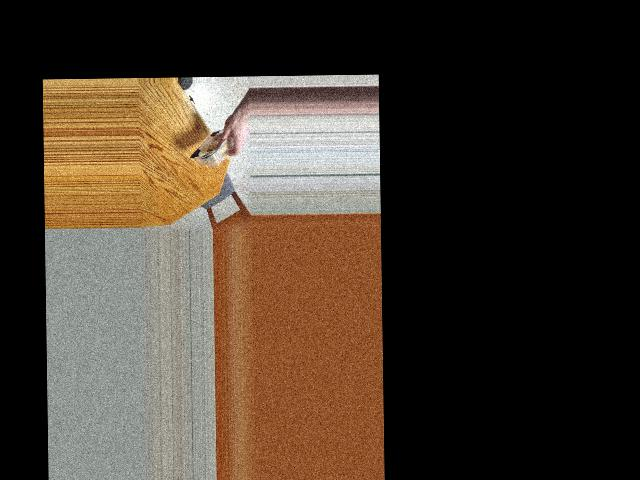cheese: (192, 115, 236, 175)
